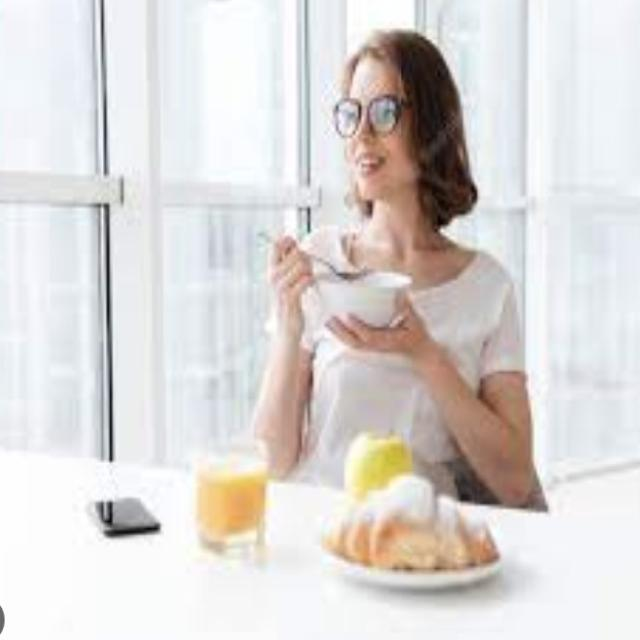eating-person: (182, 22, 554, 601)
